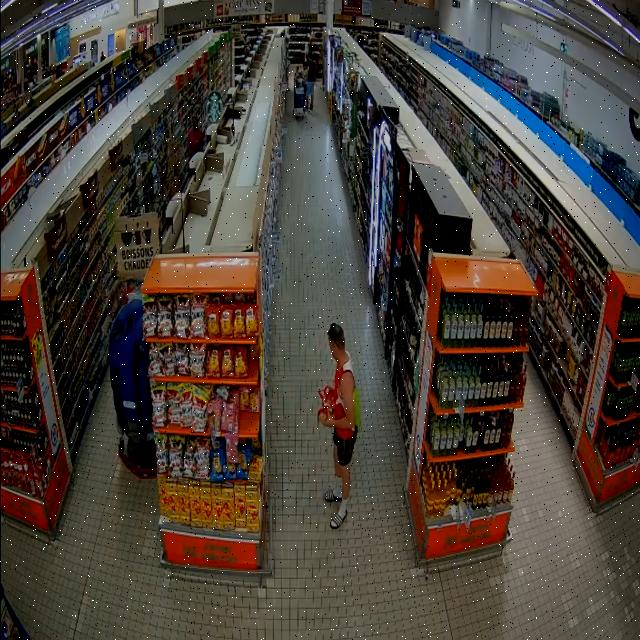article: (323, 385, 335, 408), (317, 409, 327, 425), (319, 390, 327, 402), (320, 406, 332, 414), (322, 400, 332, 407)
bags: (353, 387, 360, 431)
hands: (323, 409, 333, 428)
person: (320, 323, 359, 529), (188, 117, 203, 158)
